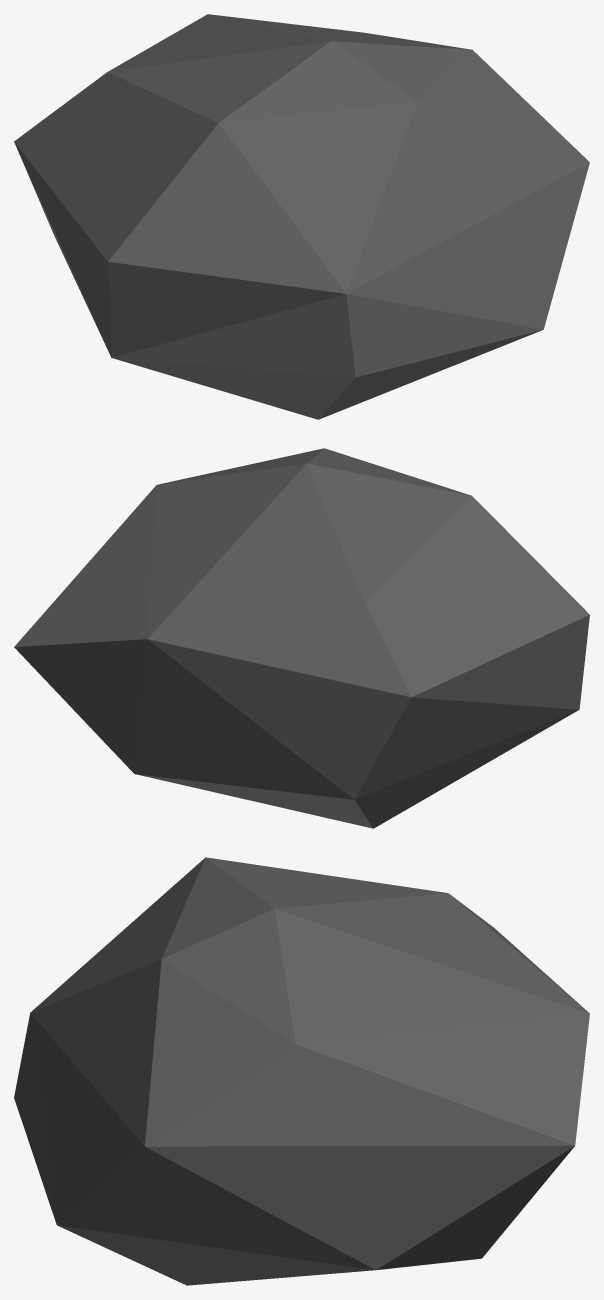
Rendered from Rock_5.fbx.
The picture shows the model from 3 angles, top to bottom: view 1: azimuth 30°, elevation 25°; view 2: azimuth 150°, elevation 25°; view 3: azimuth 270°, elevation 25°; orthographic projection. The views are drawn at different scales.
Visible parts, largest first — view 1: M_Rock 5; view 2: M_Rock 5; view 3: M_Rock 5.
Part boxes in pixels (box(x1,y1,x2,y2)): M_Rock 5: box(14, 14, 589, 419); M_Rock 5: box(14, 448, 589, 828); M_Rock 5: box(14, 857, 589, 1285).
Size of the model in its own units: 0.3607 by 0.2546 by 0.3636.
1 material, 1 textured.
